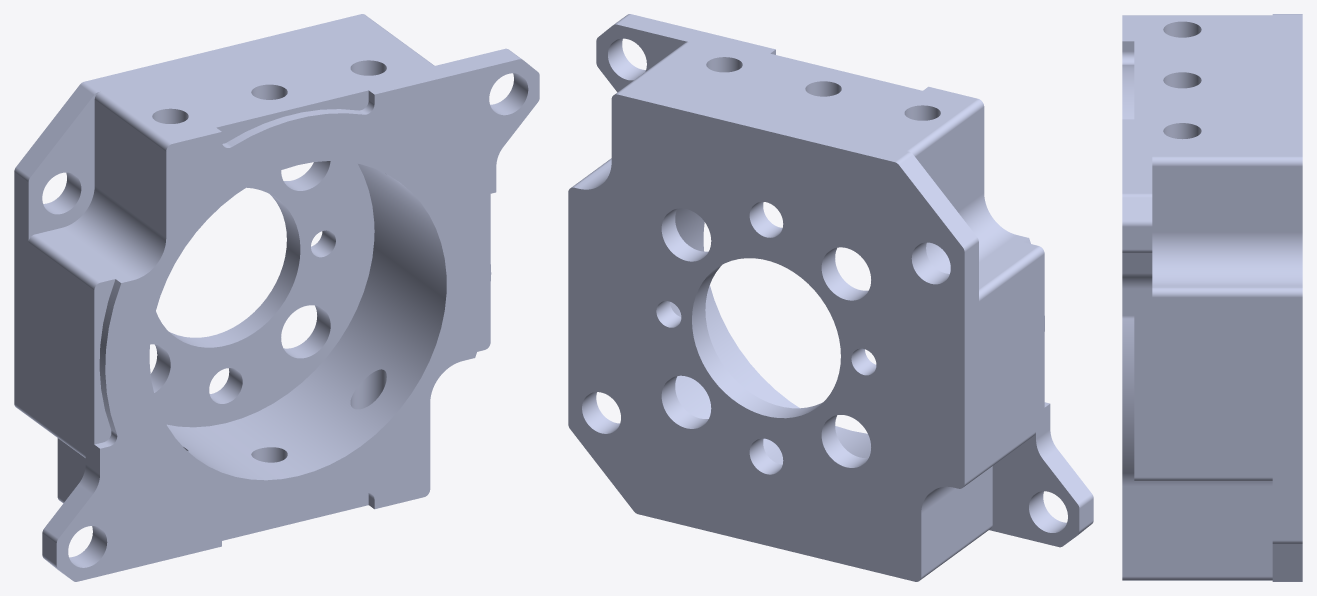
File: Fillet5.obj
3 views of the same model, side by side, from view 1: azimuth 30°, elevation 25°; view 2: azimuth 150°, elevation 25°; view 3: azimuth 270°, elevation 25° (orthographic). The views are drawn at different scales.
Parts seen in each view (by area): view 1: mesh27790, mesh27798, mesh27744, mesh27806, mesh27774, mesh27746, mesh27747, mesh27764, mesh27763, mesh27824, mesh27755, mesh27768 (+16 smaller); view 2: mesh27805, mesh27744, mesh27774, mesh27787, mesh27798, mesh27785, mesh27746, mesh27824, mesh27714, mesh27747, mesh27755, mesh27768 (+12 smaller); view 3: mesh27727, mesh27744, mesh27737, mesh27726, mesh27725, mesh27723, mesh27724, mesh27739, mesh27731, mesh27736, mesh27734, mesh27738 (+10 smaller).
Part boxes in pixels (bbox=[...]): mesh27790: bbox=[56, 59, 539, 581]; mesh27798: bbox=[167, 232, 446, 480]; mesh27744: bbox=[84, 14, 518, 143]; mesh27806: bbox=[150, 161, 374, 427]; mesh27774: bbox=[14, 172, 99, 473]; mesh27746: bbox=[94, 100, 166, 237]; mesh27747: bbox=[62, 186, 166, 279]; mesh27764: bbox=[28, 92, 98, 240]; mesh27763: bbox=[358, 164, 446, 283]; mesh27824: bbox=[169, 240, 300, 347]; mesh27755: bbox=[16, 85, 93, 177]; mesh27768: bbox=[35, 228, 132, 282]; mesh27805: bbox=[568, 94, 964, 581]; mesh27744: bbox=[617, 14, 977, 161]; mesh27774: bbox=[964, 242, 1050, 483]; mesh27787: bbox=[989, 433, 1079, 547]; mesh27798: bbox=[670, 239, 870, 464]; mesh27785: bbox=[921, 466, 992, 576]; mesh27746: bbox=[915, 107, 984, 211]; mesh27824: bbox=[692, 310, 822, 418]; mesh27714: bbox=[596, 24, 687, 92]; mesh27747: bbox=[926, 193, 1016, 273]; mesh27755: bbox=[899, 155, 976, 246]; mesh27768: bbox=[979, 235, 1037, 288]; mesh27727: bbox=[1122, 288, 1302, 540]; mesh27744: bbox=[1122, 14, 1302, 193]; mesh27737: bbox=[1122, 486, 1272, 576]; mesh27726: bbox=[1152, 166, 1302, 232]; mesh27725: bbox=[1152, 232, 1302, 285]; mesh27723: bbox=[1152, 156, 1302, 166]; mesh27724: bbox=[1152, 287, 1302, 297]; mesh27739: bbox=[1272, 544, 1302, 581]; mesh27731: bbox=[1122, 318, 1134, 396]; mesh27736: bbox=[1122, 473, 1272, 486]; mesh27734: bbox=[1122, 397, 1134, 473]; mesh27738: bbox=[1122, 576, 1272, 580].
Size of the model in its own units: 0.0619 by 0.0508 by 0.0191.
